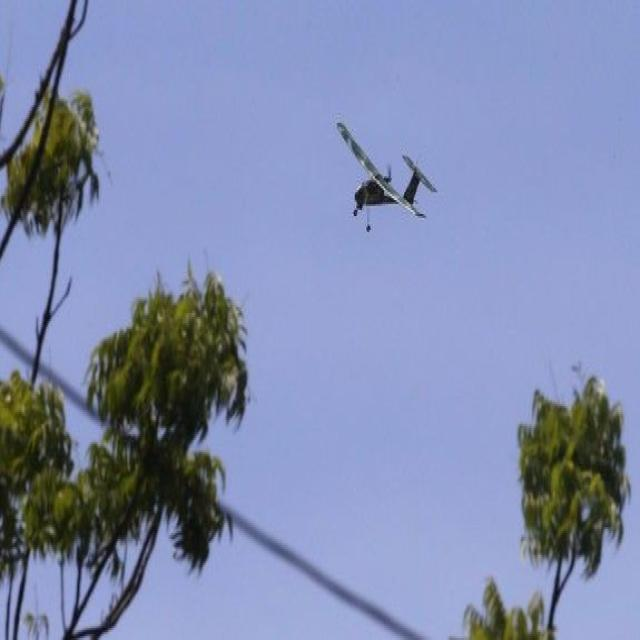iha: (367, 151, 406, 203)
